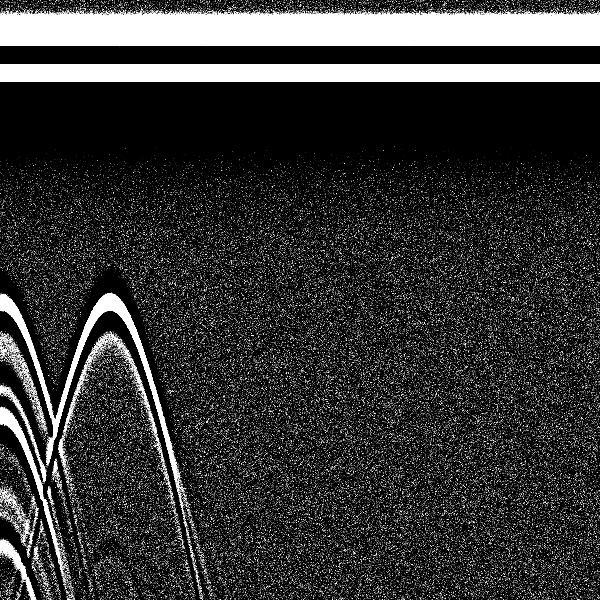pipe: (57, 5, 164, 384), (1, 6, 57, 377)
